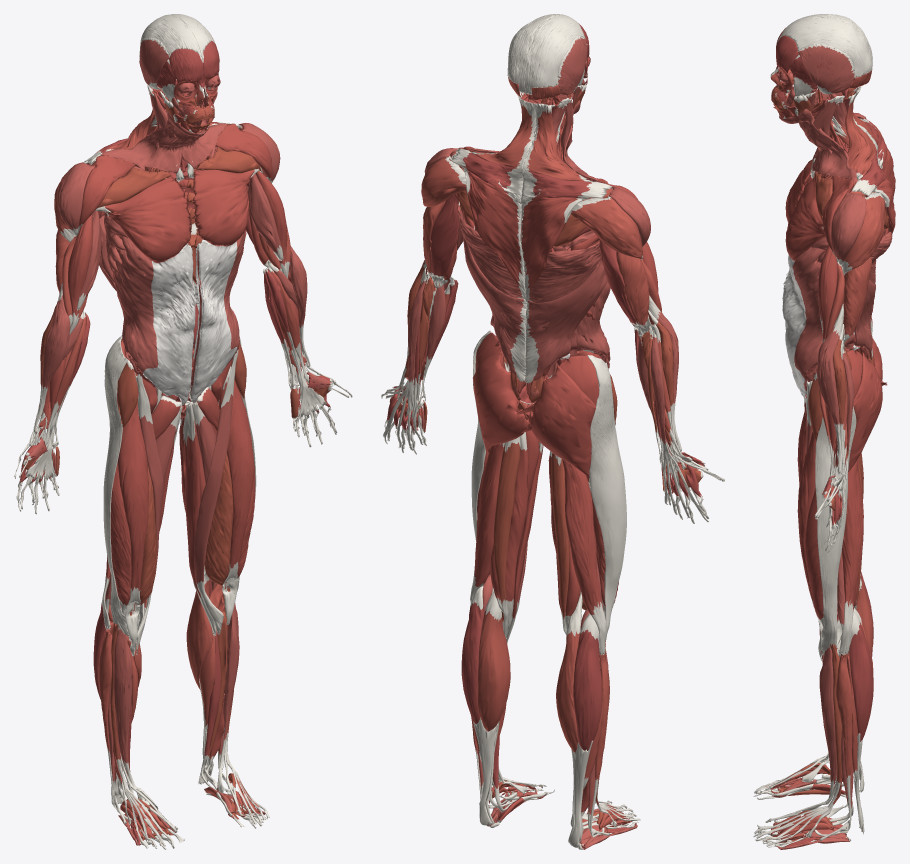
File: male-muscular.glb
3 renders of one model, left to right at view 1: azimuth 30°, elevation 25°; view 2: azimuth 150°, elevation 25°; view 3: azimuth 270°, elevation 25°, orthographic.
Visible parts, largest first — view 1: External_abdominal_oblique_muscle_R, External_abdominal_oblique_muscle_L, Sternocostal_head_of_pectoralis_major_muscle_R, Rectus_femoris_muscle_R, Sternocostal_head_of_pectoralis_major_muscle_L, Rectus_femoris_muscle_L, Sartorius_muscle_L, Iliotibial_tract_R, Vastus_medialis_muscle_L, Platysma_R, Gracilis_muscle_L, Vastus_lateralis_muscle_R (+37 smaller); view 2: Latissimus_dorsi_muscle_R, Iliotibial_tract_R, Gluteus_maximus_muscle_R, Latissimus_dorsi_muscle_L, Descending_part_of_trapezius_muscle_L, Long_head_of_biceps_femoris_R, Gluteus_maximus_muscle_L, Medial_head_of_gastrocnemius_L, Descending_part_of_trapezius_muscle_R, Lateral_head_of_gastrocnemius_R, Epicranial_aponeurosis_R, Semitendinosus_muscle_L (+32 smaller); view 3: External_abdominal_oblique_muscle_L, Iliotibial_tract_L, Long_head_of_biceps_femoris_L, Epicranial_aponeurosis_L, Temporoparietalis_muscle_L, Lateral_head_of_gastrocnemius_L, Gluteus_maximus_muscle_L, Sternocostal_head_of_pectoralis_major_muscle_L, Platysma_L, Brachioradialis_muscle_L, Acromial_part_of_deltoid_muscle_L, Scapular_spinal_part_of_deltoid_muscle_L (+37 smaller).
Boxes of the visible parts, <box> form: External_abdominal_oblique_muscle_R: <box>114,236,195,397</box>; External_abdominal_oblique_muscle_L: <box>193,230,246,394</box>; Sternocostal_head_of_pectoralis_major_muscle_R: <box>95,176,191,263</box>; Rectus_femoris_muscle_R: <box>117,395,149,647</box>; Sternocostal_head_of_pectoralis_major_muscle_L: <box>192,168,259,246</box>; Rectus_femoris_muscle_L: <box>219,366,254,624</box>; Sartorius_muscle_L: <box>194,350,238,634</box>; Iliotibial_tract_R: <box>103,335,129,635</box>; Vastus_medialis_muscle_L: <box>204,453,233,608</box>; Platysma_R: <box>101,112,201,173</box>; Gracilis_muscle_L: <box>183,403,216,635</box>; Vastus_lateralis_muscle_R: <box>110,463,131,641</box>; Latissimus_dorsi_muscle_R: <box>525,241,607,383</box>; Iliotibial_tract_R: <box>587,355,626,640</box>; Gluteus_maximus_muscle_R: <box>517,365,595,478</box>; Latissimus_dorsi_muscle_L: <box>457,202,526,381</box>; Descending_part_of_trapezius_muscle_L: <box>464,168,526,301</box>; Long_head_of_biceps_femoris_R: <box>562,459,607,654</box>; Gluteus_maximus_muscle_L: <box>473,351,529,453</box>; Medial_head_of_gastrocnemius_L: <box>477,591,510,731</box>; Descending_part_of_trapezius_muscle_R: <box>521,185,589,302</box>; Lateral_head_of_gastrocnemius_R: <box>573,613,602,750</box>; Epicranial_aponeurosis_R: <box>524,14,585,94</box>; Semitendinosus_muscle_L: <box>493,436,520,637</box>; External_abdominal_oblique_muscle_L: <box>782,247,854,395</box>; Iliotibial_tract_L: <box>815,406,856,651</box>; Long_head_of_biceps_femoris_L: <box>838,458,863,655</box>; Epicranial_aponeurosis_L: <box>779,17,872,77</box>; Temporoparietalis_muscle_L: <box>798,43,854,94</box>; Lateral_head_of_gastrocnemius_L: <box>849,612,873,741</box>; Gluteus_maximus_muscle_L: <box>848,352,886,471</box>; Sternocostal_head_of_pectoralis_major_muscle_L: <box>785,176,824,261</box>; Platysma_L: <box>779,109,856,180</box>; Brachioradialis_muscle_L: <box>817,304,843,475</box>; Acromial_part_of_deltoid_muscle_L: <box>831,192,866,266</box>; Scapular_spinal_part_of_deltoid_muscle_L: <box>842,192,885,274</box>.
Bounding box in the file's own units: 0.7574 × 1.71 × 0.2746.
